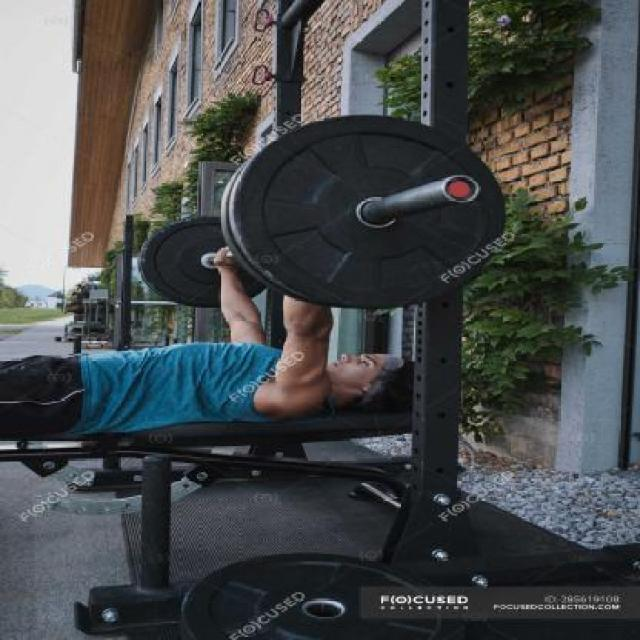Barbell: (436, 162, 484, 210)
